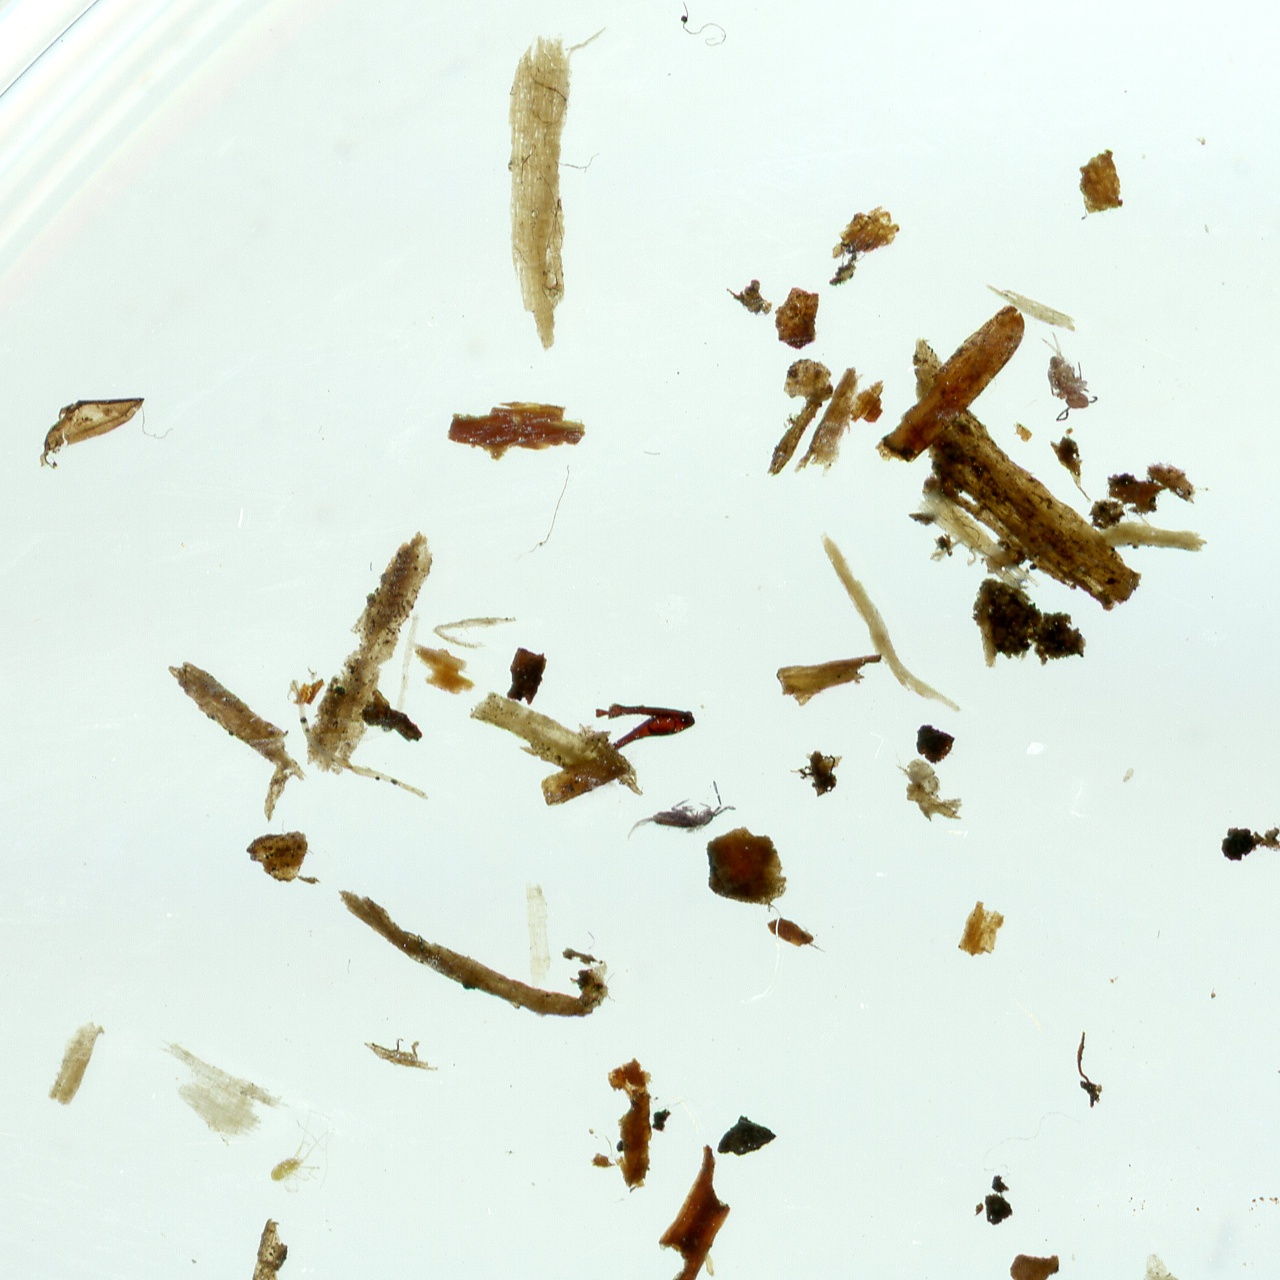arthropod: (1019, 321, 1105, 428), (621, 777, 740, 845), (267, 1103, 340, 1198)
